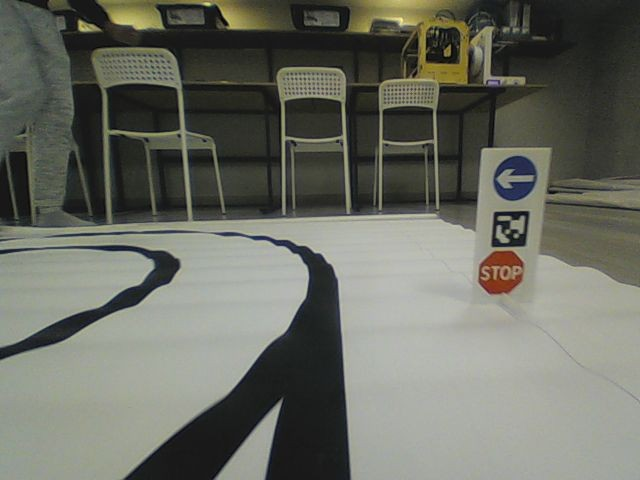Stop: (476, 248, 525, 295)
